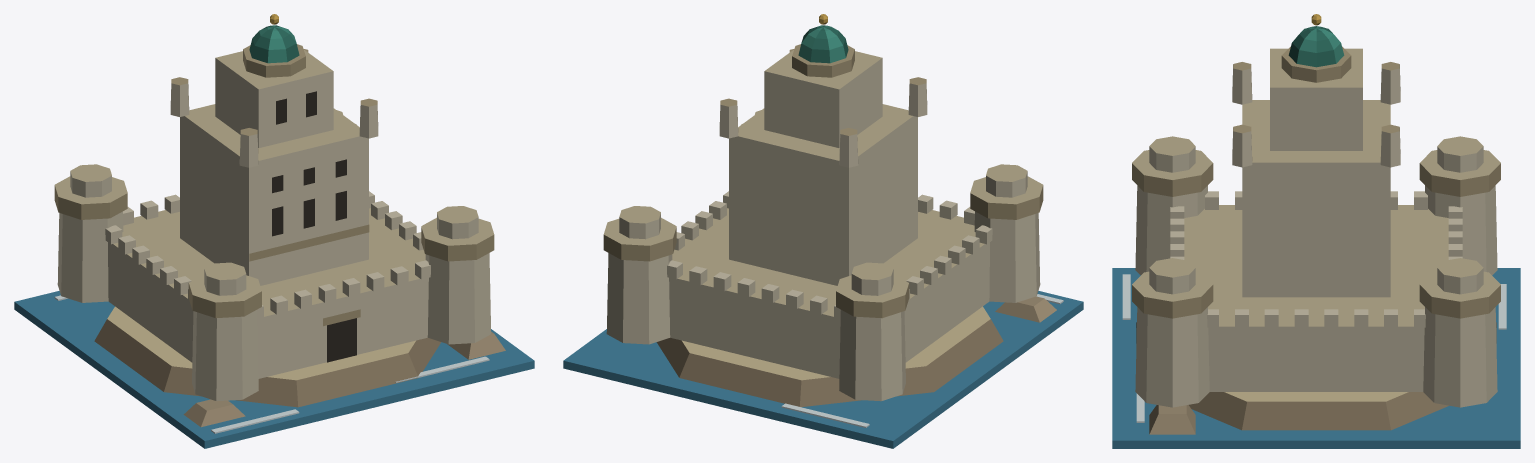
The model's file is qaitbay.glb.
3 views of the same model, side by side, from view 1: azimuth 30°, elevation 25°; view 2: azimuth 150°, elevation 25°; view 3: azimuth 270°, elevation 25° (orthographic). The views are drawn at different scales.
Parts seen in each view (by area): view 1: qaitbay; view 2: qaitbay; view 3: qaitbay.
Boxes of the visible parts, left/top/right/bottom form: qaitbay: left=14, top=14, right=534, bottom=448; qaitbay: left=563, top=14, right=1083, bottom=448; qaitbay: left=1112, top=14, right=1520, bottom=448.
Size of the model in its own units: 1.76 by 1.65 by 1.76.
